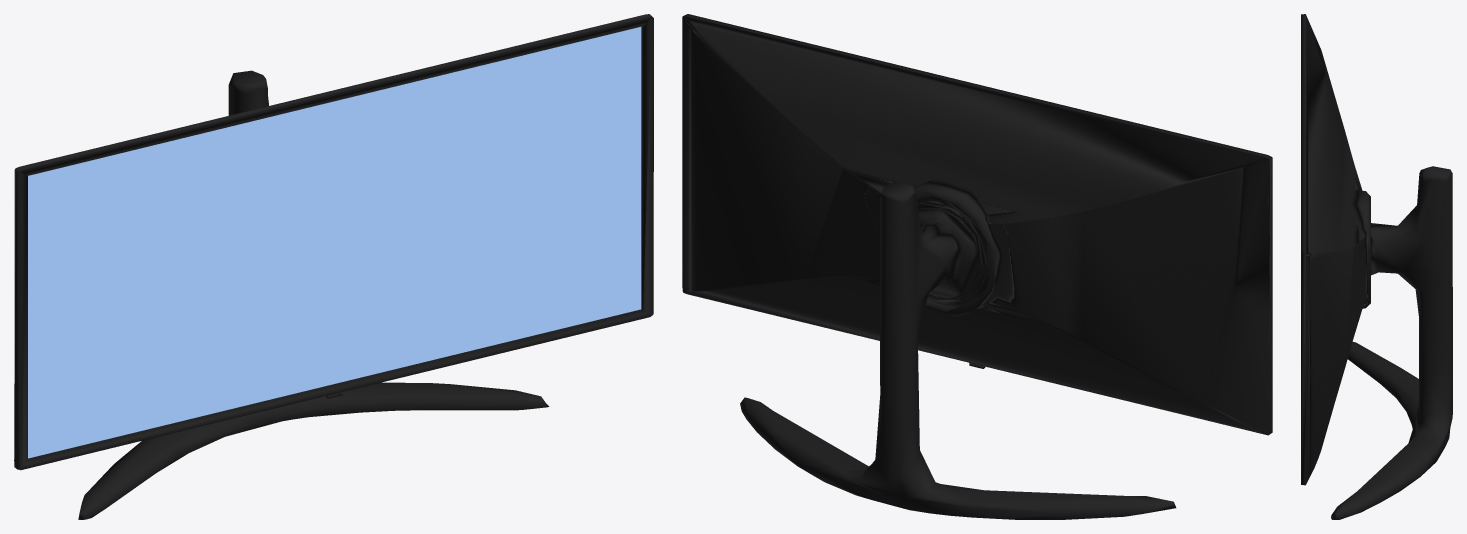
Rendered from monitor-ultrawide.glb.
The picture shows the model from 3 angles, left to right: view 1: azimuth 30°, elevation 25°; view 2: azimuth 150°, elevation 25°; view 3: azimuth 270°, elevation 25°; orthographic projection. The views are drawn at different scales.
Size of the model in its own units: 10.73 by 6.23 by 2.87.
3 materials, 1 textured.
